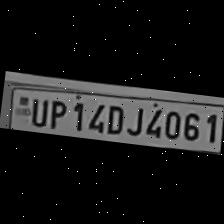0: (160, 106, 182, 139)
1: (64, 96, 86, 130), (200, 108, 222, 142)
4: (141, 102, 164, 138), (83, 98, 106, 132)
6: (178, 107, 202, 140)
D: (101, 99, 126, 134)
J: (122, 100, 145, 135)
P: (42, 95, 67, 129)
U: (24, 94, 48, 126)
